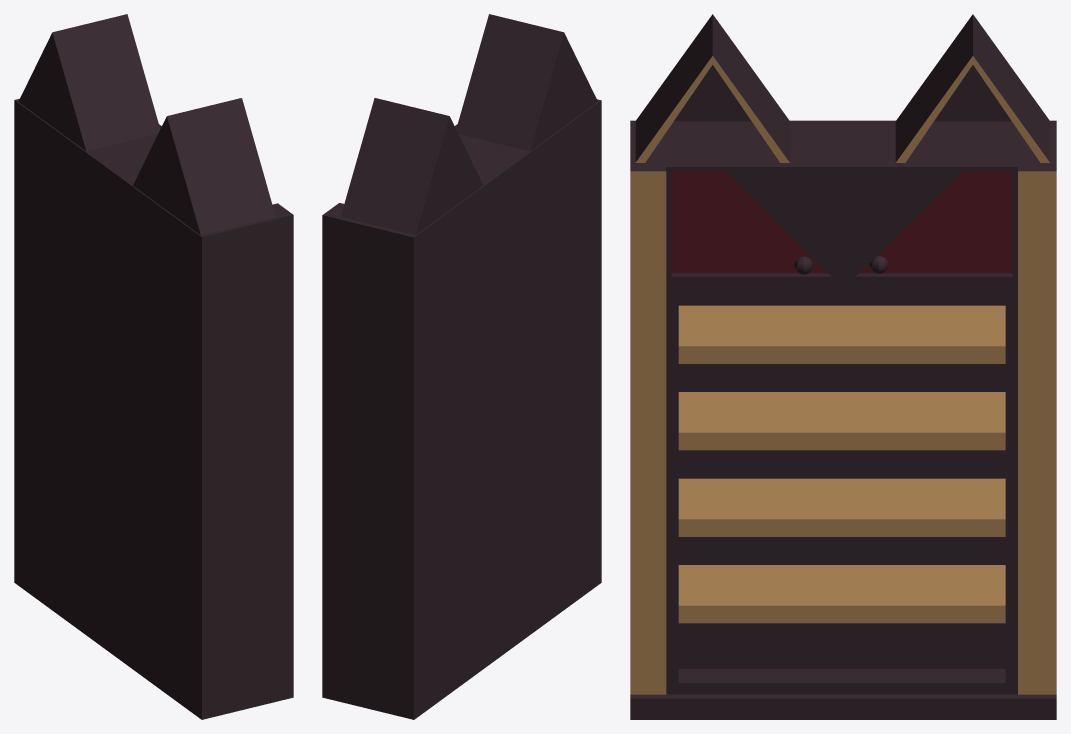
File: LCestantedelivros2.fbx
The picture shows the model from 3 angles, left to right: view 1: azimuth 30°, elevation 25°; view 2: azimuth 150°, elevation 25°; view 3: azimuth 270°, elevation 25°; orthographic projection. The views are drawn at different scales.
Visible parts, largest first — view 1: Cube.054_Cube.100; view 2: Cube.054_Cube.100; view 3: Cube.054_Cube.100.
Part boxes in pixels (box(x1,y1,x2,y2)): Cube.054_Cube.100: box(14, 14, 293, 719); Cube.054_Cube.100: box(322, 14, 601, 719); Cube.054_Cube.100: box(630, 14, 1056, 719).
Bounding box in the file's own units: 158 × 948 × 558.
